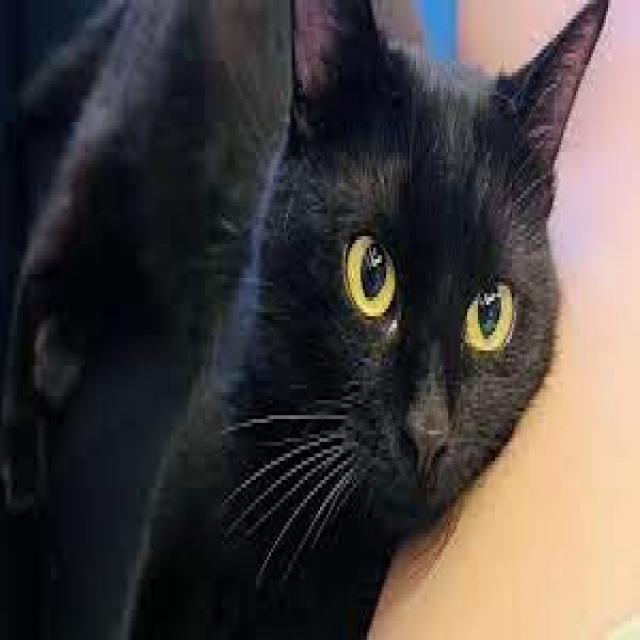black cat: (123, 0, 608, 637)
